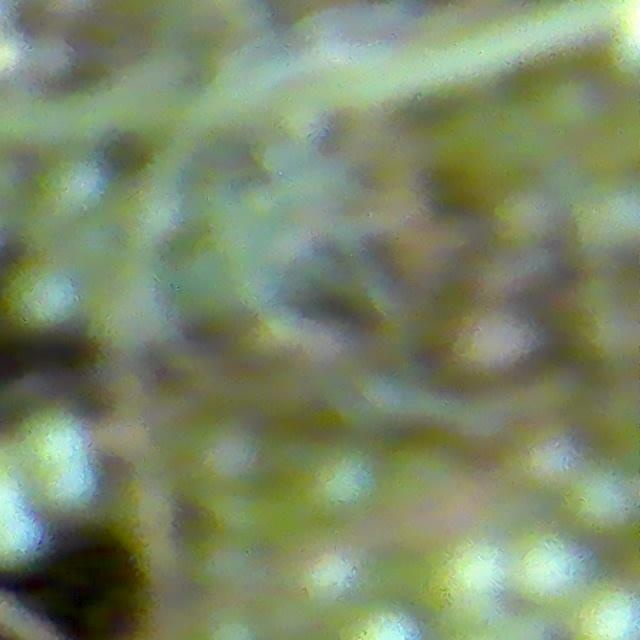SeaGrape: (422, 533, 511, 629), (294, 437, 385, 526), (181, 412, 266, 493), (508, 532, 591, 613), (2, 258, 81, 334), (564, 464, 640, 542), (572, 172, 639, 256), (295, 544, 366, 615), (35, 155, 107, 223), (532, 73, 603, 140), (514, 431, 582, 496), (568, 581, 640, 640)
